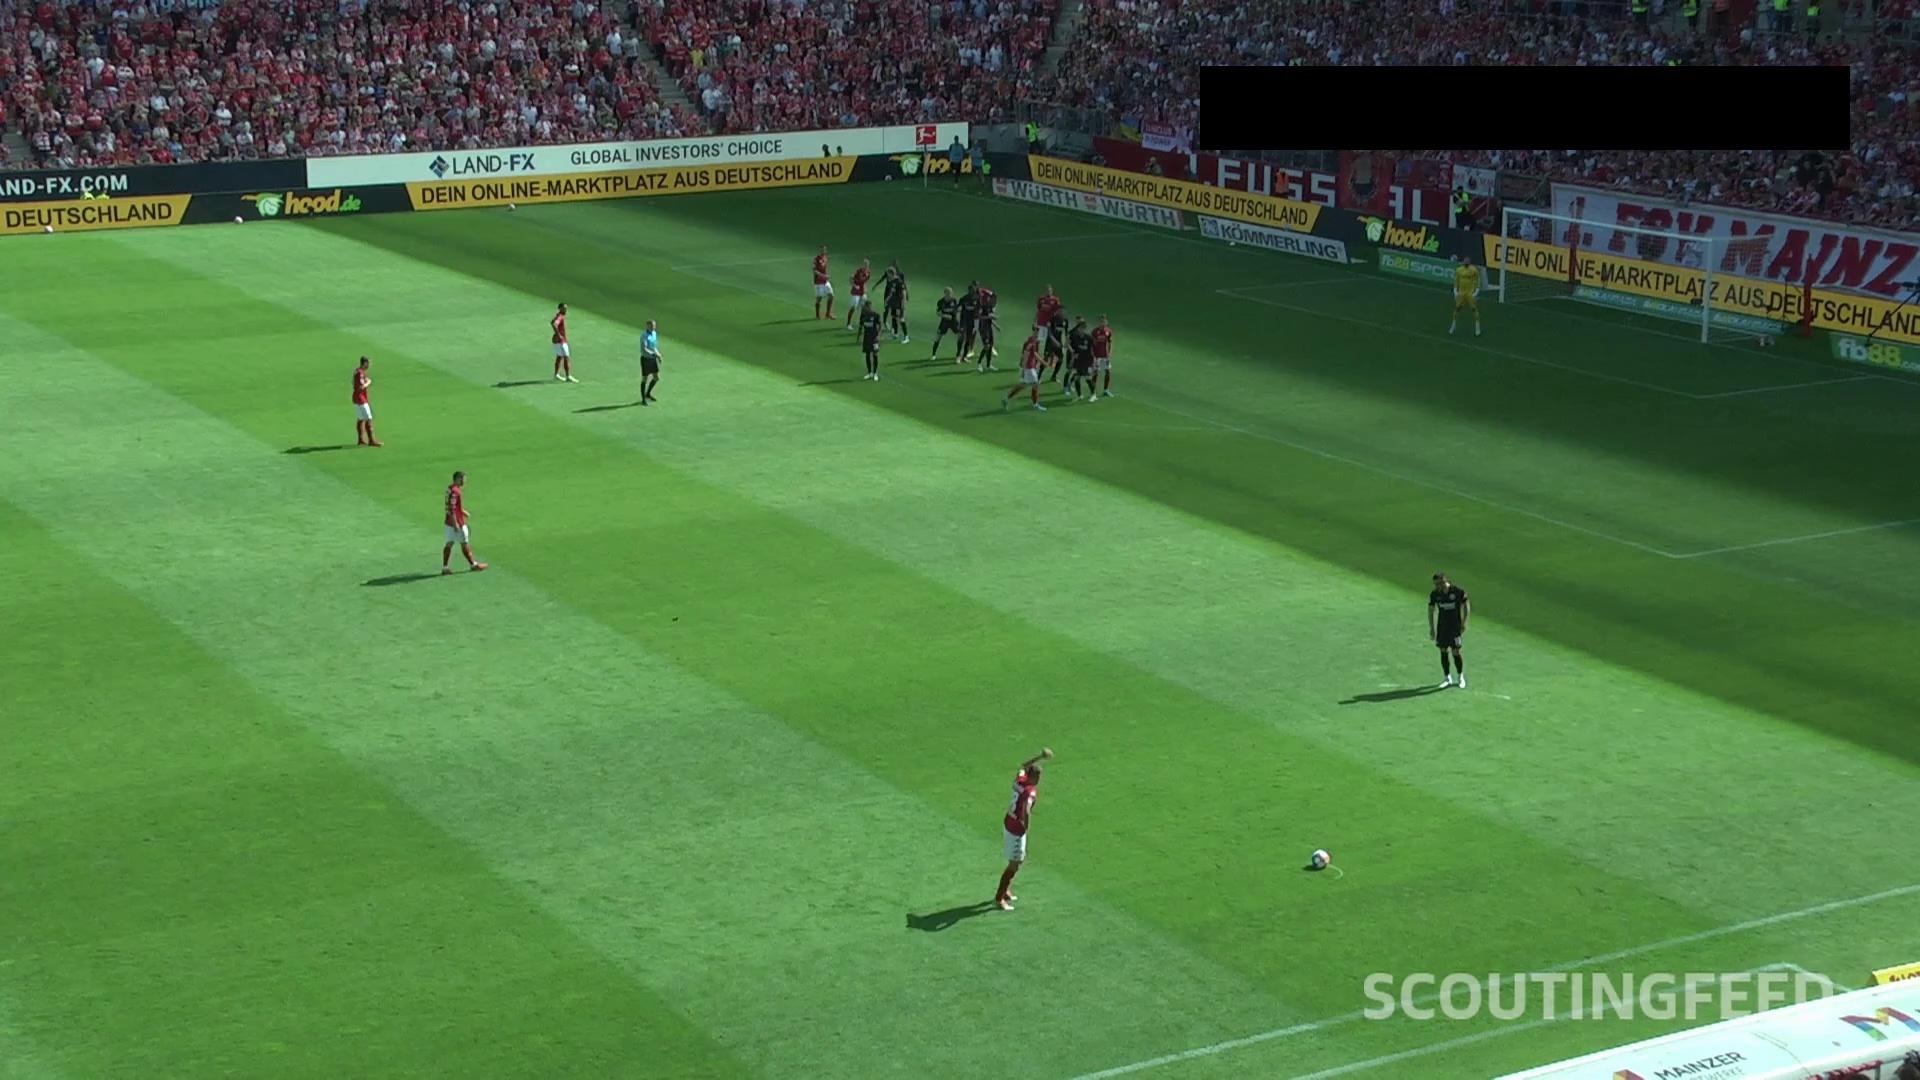Location-of-ball: (1299, 839, 1337, 877)
